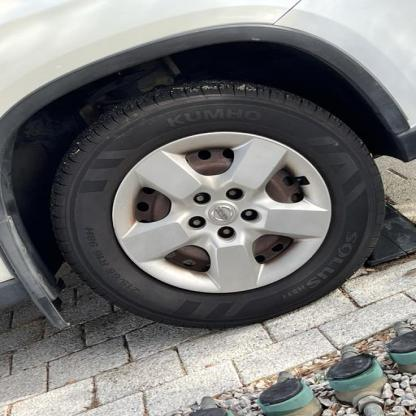Tire: (46, 78, 387, 328)
